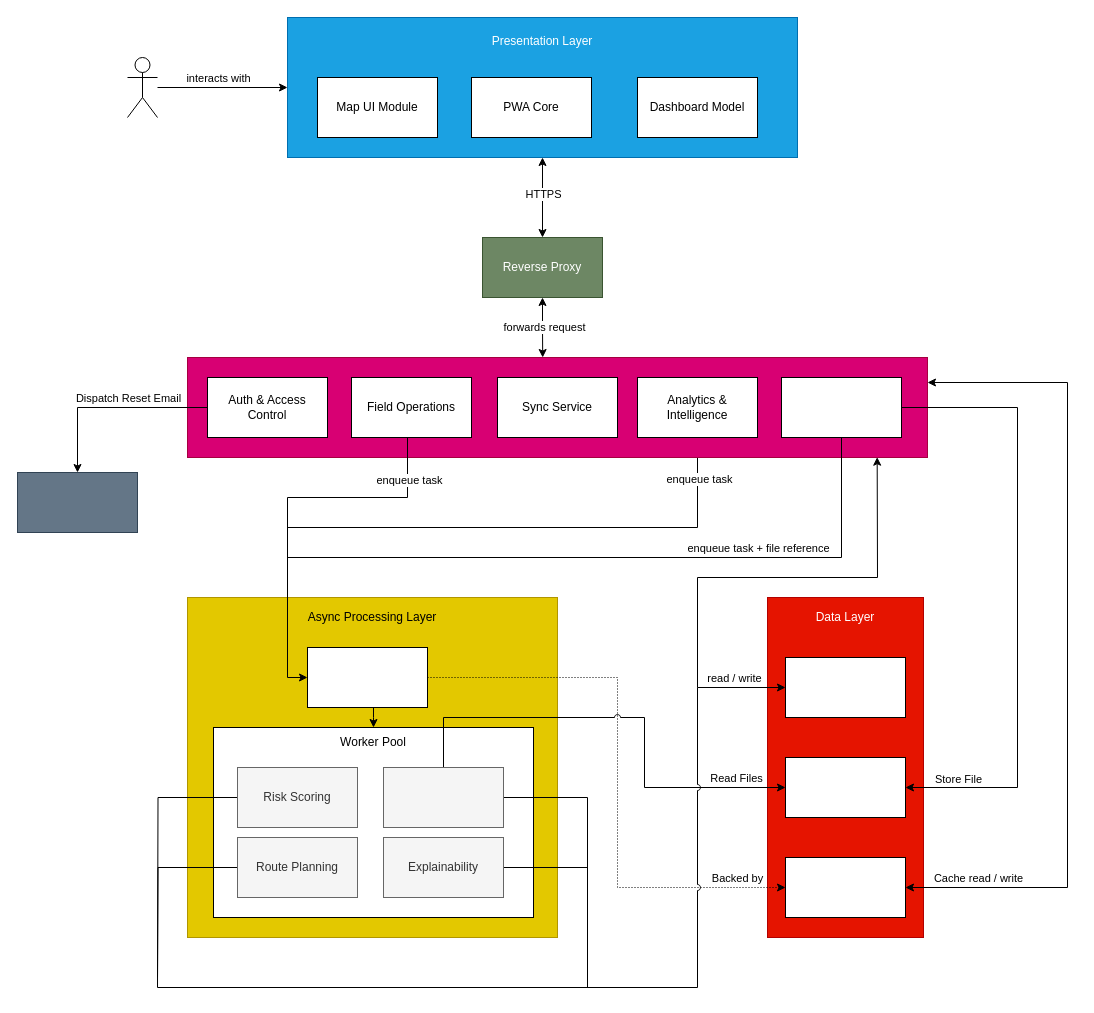
Image size: 1094x1013. Some labels were removed from this diagram. Each missing label, with the centre of its shape:
"CSV Ingestion" goes at (x=443, y=797).
"Data Ingestion" goes at (x=841, y=407).
"Email Service" goes at (x=77, y=502).
"In Memory Store" goes at (x=845, y=887).
"Message Broker" goes at (x=367, y=677).
"Object Storage" goes at (x=845, y=787).
"Primary Database" goes at (x=845, y=687).
"User" goes at (x=142, y=87).
